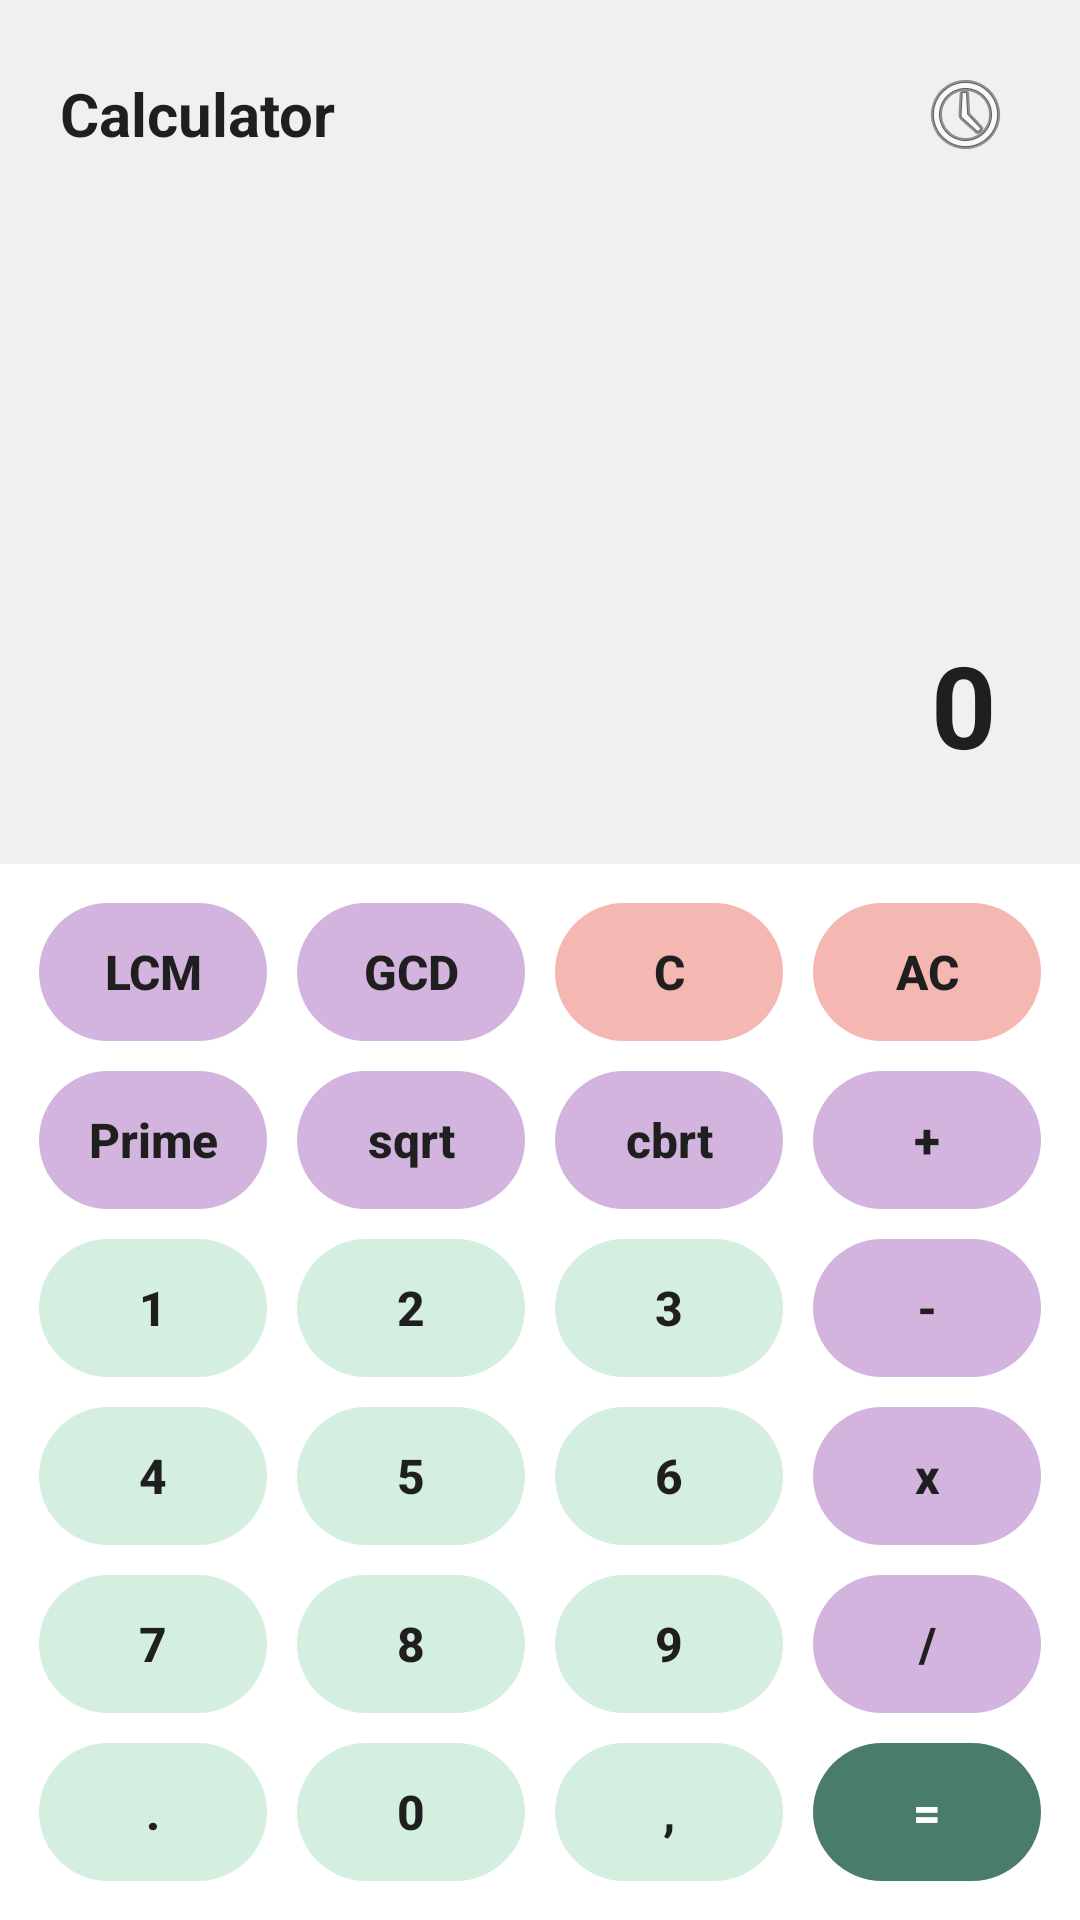

Named icons in this screenshot (1080px×1920px) and their bounding boxes, (x1, y1, x2, y2):
View History: (931, 80, 1000, 149)
